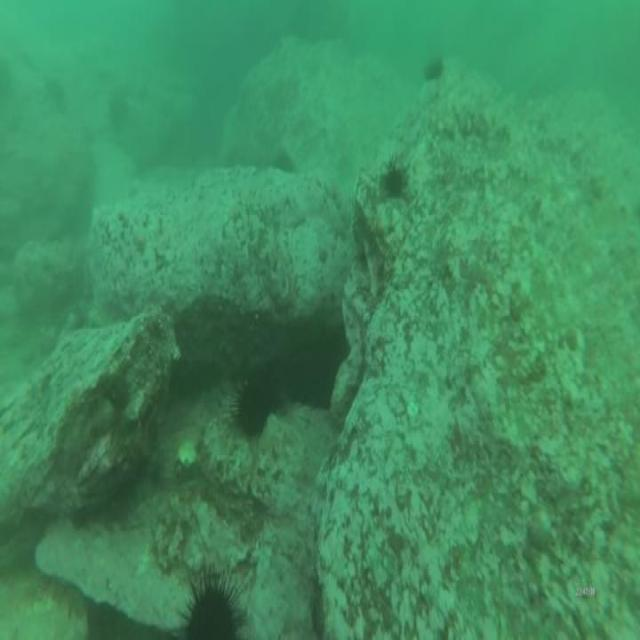echinus: (171, 565, 249, 640), (230, 362, 286, 444), (300, 335, 343, 416), (379, 156, 408, 207), (104, 86, 132, 134), (40, 71, 68, 109), (268, 144, 298, 174), (422, 54, 448, 87)
